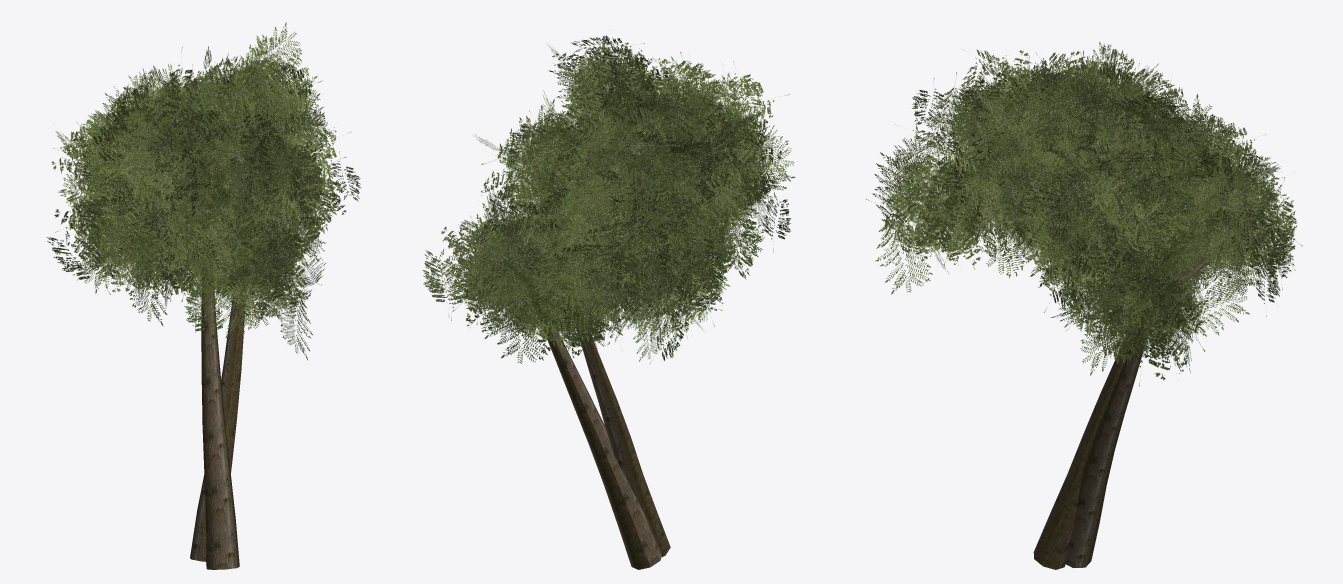
Rendered from tamarisk_1.glb.
3 views of the same model, side by side, from view 1: azimuth 30°, elevation 25°; view 2: azimuth 150°, elevation 25°; view 3: azimuth 270°, elevation 25° (orthographic). The views are drawn at different scales.
Visible parts, largest first — view 1: tamarisk; view 2: tamarisk; view 3: tamarisk.
Boxes of the visible parts, bbox=[...] form: tamarisk: bbox=[46, 22, 361, 569]; tamarisk: bbox=[422, 35, 795, 569]; tamarisk: bbox=[866, 42, 1302, 569].
Bounding box in the file's own units: 4.1 × 7 × 5.54.
Materials: 2 (2 with a texture image).
